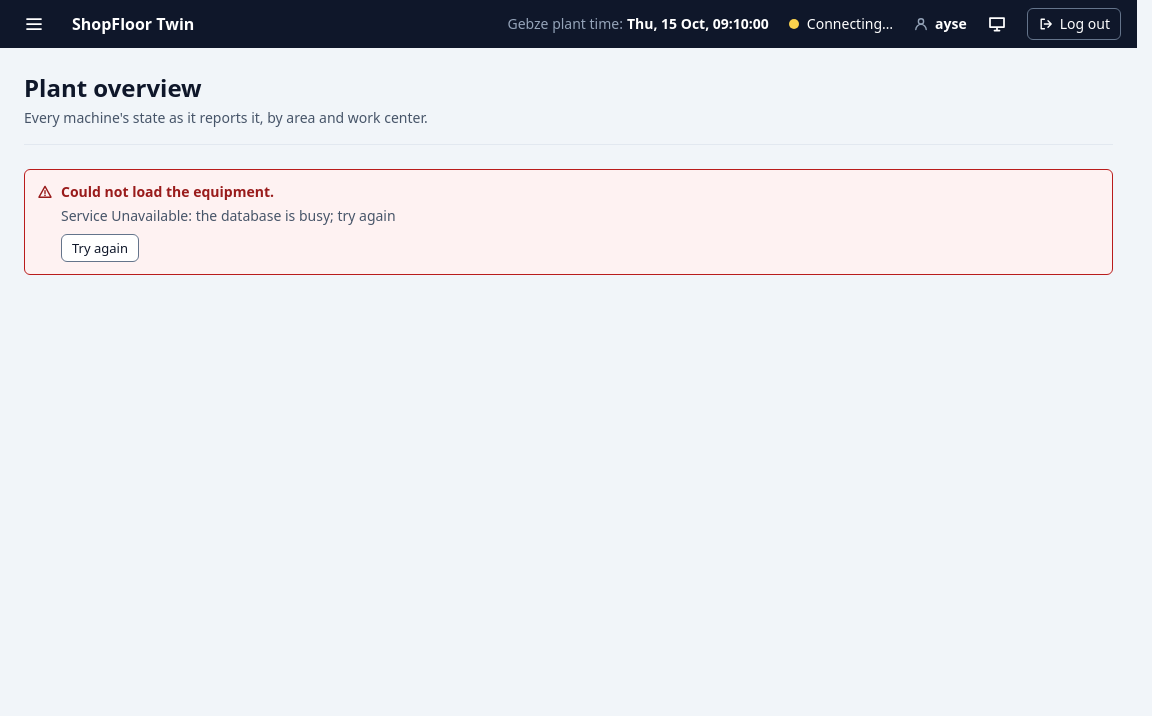
Test: plant overview › shows what the MES said when the equipment cannot be read, and retries
Expected: the message that starts with "Could not load the equipment." shows "the database is busy; try again", [61, 206, 396, 225]
Click the button "Try again" at (100,248), box [61, 234, 139, 262]
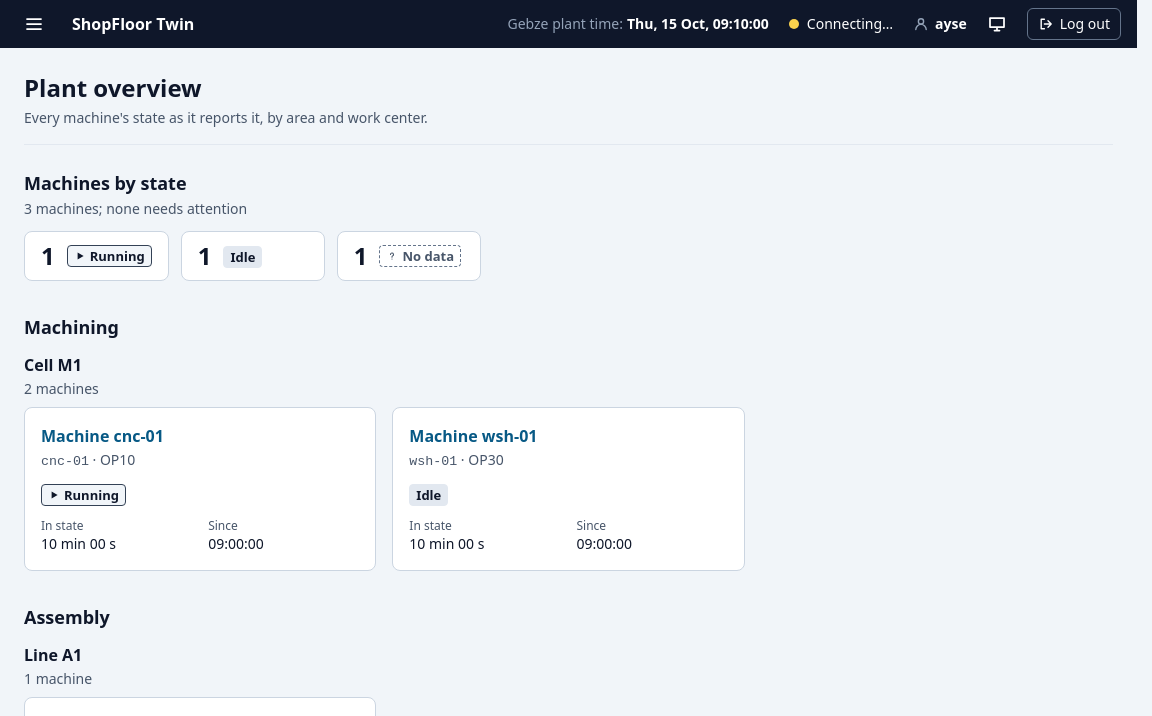
Result: the element with test id "state-cnc-01" reads "Running" at [64, 486, 119, 504]
